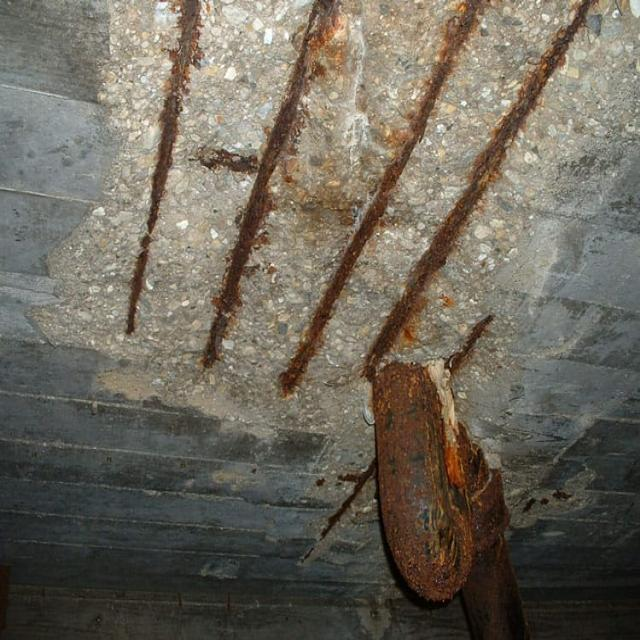stain_mould: (351, 4, 592, 639), (201, 3, 342, 391), (123, 2, 209, 343)
